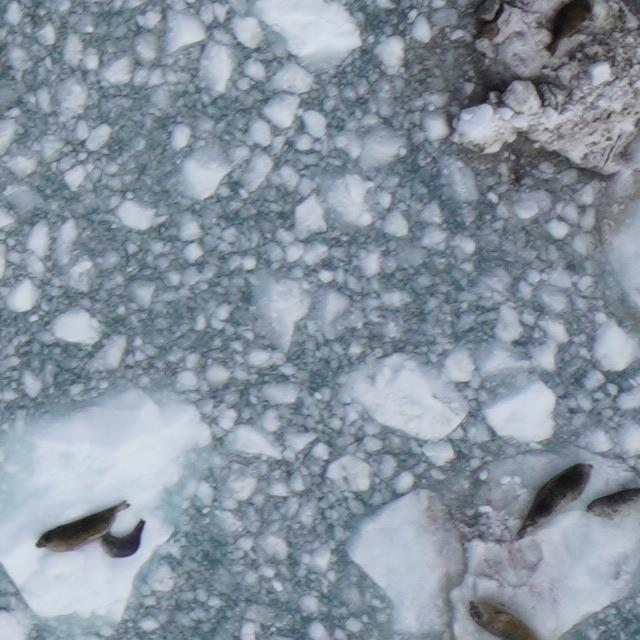seal: (512, 461, 596, 543), (31, 495, 133, 555), (464, 593, 549, 640), (538, 0, 598, 61), (96, 516, 149, 561), (583, 486, 640, 524)
